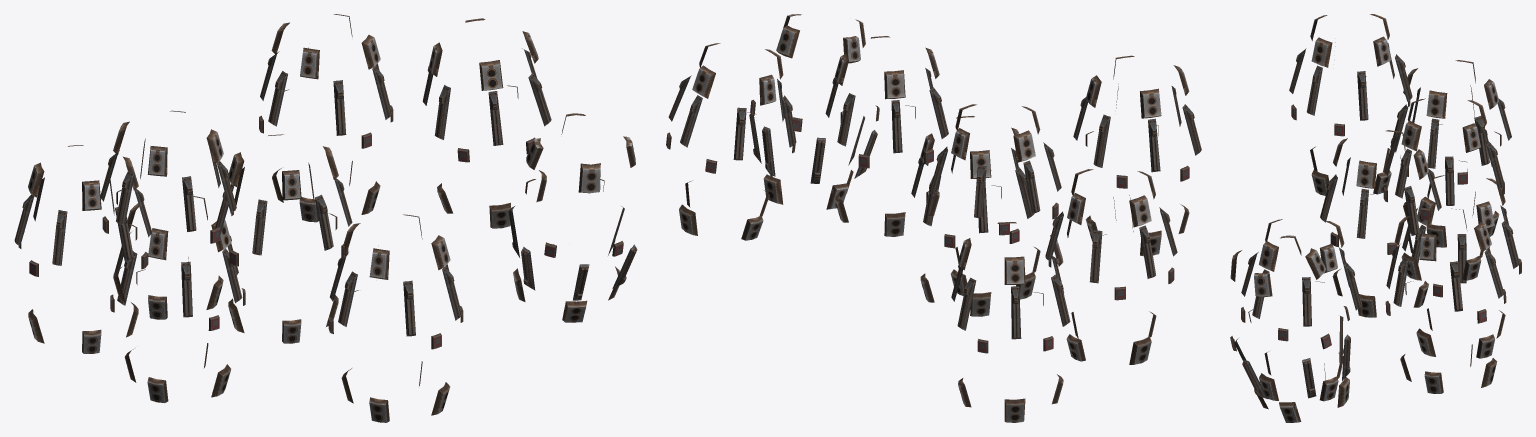
File: prop_static_yao_container_01_05_0.glb
3 views of the same model, side by side, from view 1: azimuth 30°, elevation 25°; view 2: azimuth 150°, elevation 25°; view 3: azimuth 270°, elevation 25° (orthographic). The views are drawn at different scales.
Visible parts, largest first — view 1: yao_container_01_05_LOD0; view 2: yao_container_01_05_LOD0; view 3: yao_container_01_05_LOD0.
Part boxes in pixels (box(x1,y1,x2,y2)): yao_container_01_05_LOD0: box(14, 14, 637, 422); yao_container_01_05_LOD0: box(666, 14, 1201, 422); yao_container_01_05_LOD0: box(1230, 14, 1521, 422).
Size of what is drawn, in the model's own units: 8.97 by 5.41 by 4.9.
Materials: 1 (1 with a texture image).
